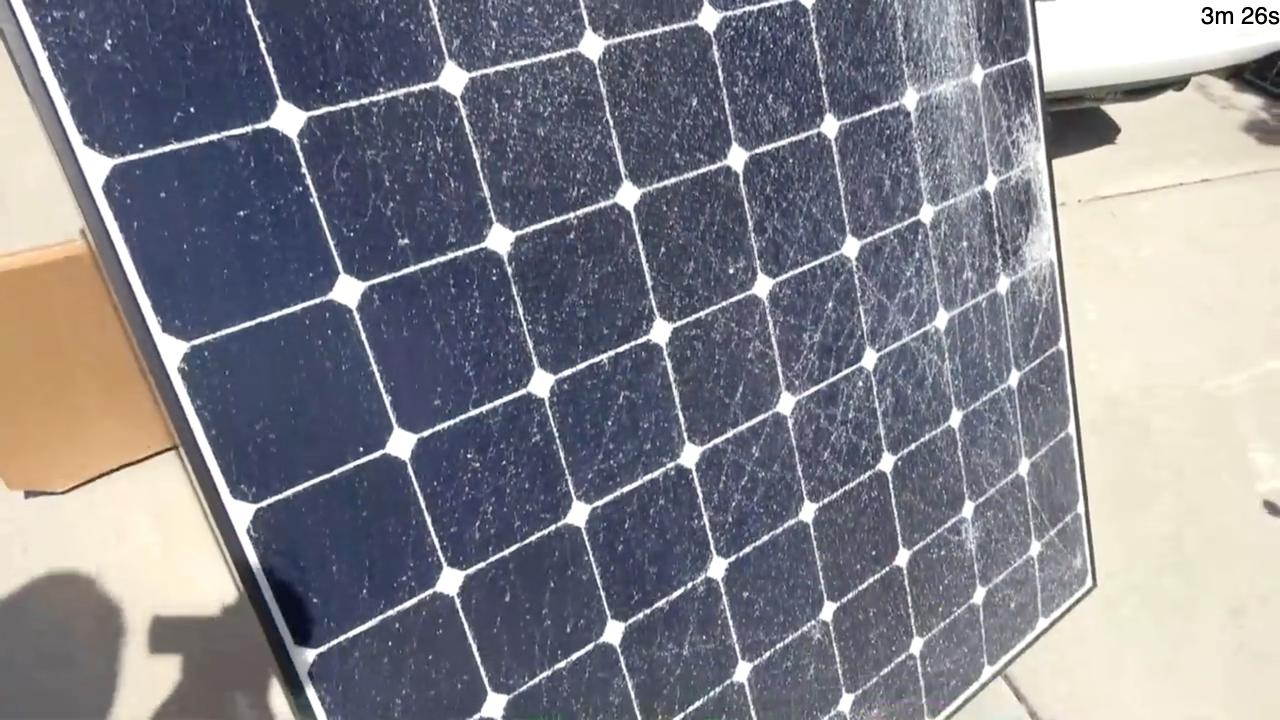Crack: (333, 0, 736, 192), (764, 225, 989, 447), (899, 3, 983, 97), (1014, 214, 1052, 323), (993, 120, 1042, 179)
